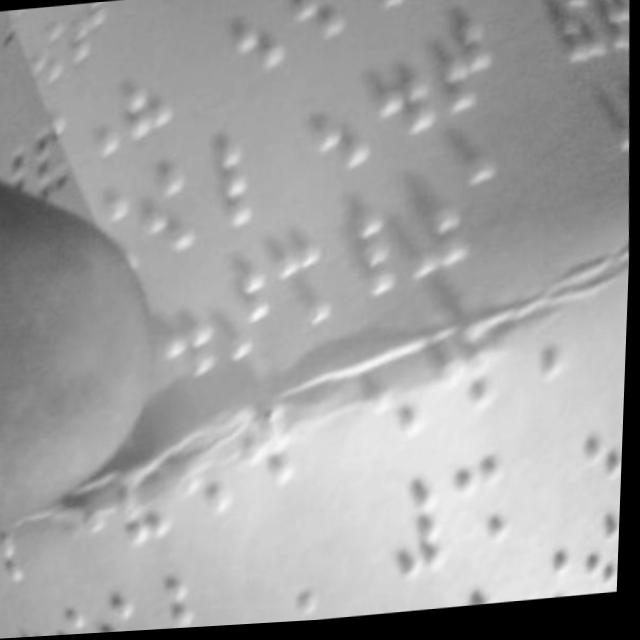braiile: (215, 258, 278, 375), (454, 463, 519, 572), (431, 22, 496, 129), (313, 80, 378, 187), (387, 479, 450, 588), (136, 162, 199, 269), (120, 38, 180, 149), (331, 216, 399, 313), (410, 181, 469, 290), (190, 140, 254, 240), (268, 242, 332, 338), (377, 48, 436, 152), (575, 394, 628, 505), (228, 0, 283, 85), (60, 2, 114, 69), (286, 0, 343, 53)
